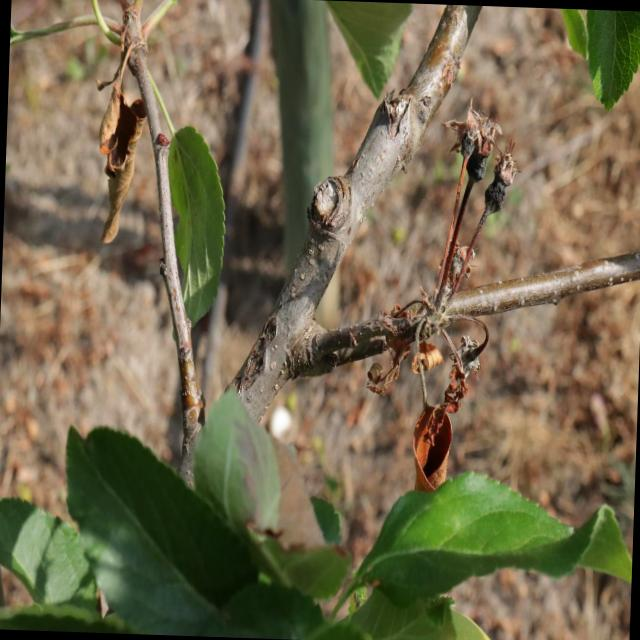-FireBlight-: (70, 7, 152, 245)
